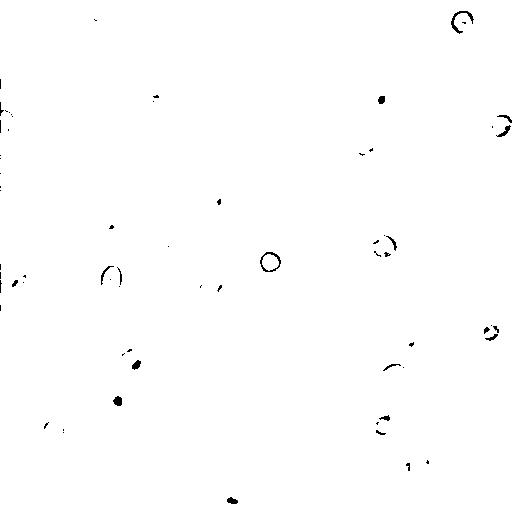micro-algae: (317, 167, 388, 238), (93, 210, 132, 251), (100, 382, 138, 419), (3, 260, 37, 295), (366, 283, 406, 312), (409, 446, 438, 481), (211, 486, 249, 512), (121, 351, 154, 380), (203, 184, 233, 215), (368, 84, 398, 113), (489, 265, 511, 302), (41, 417, 68, 446), (100, 264, 124, 295), (197, 274, 224, 301), (371, 234, 398, 261), (453, 39, 481, 65), (436, 311, 462, 339), (451, 9, 476, 36), (405, 336, 432, 360), (380, 361, 408, 384), (488, 112, 512, 138), (259, 250, 283, 276), (353, 134, 377, 157), (156, 228, 180, 249), (150, 0, 178, 17), (373, 415, 395, 436), (1, 79, 15, 110), (481, 323, 502, 343), (87, 4, 108, 23), (2, 110, 16, 134), (1, 282, 15, 306), (11, 272, 28, 290)
